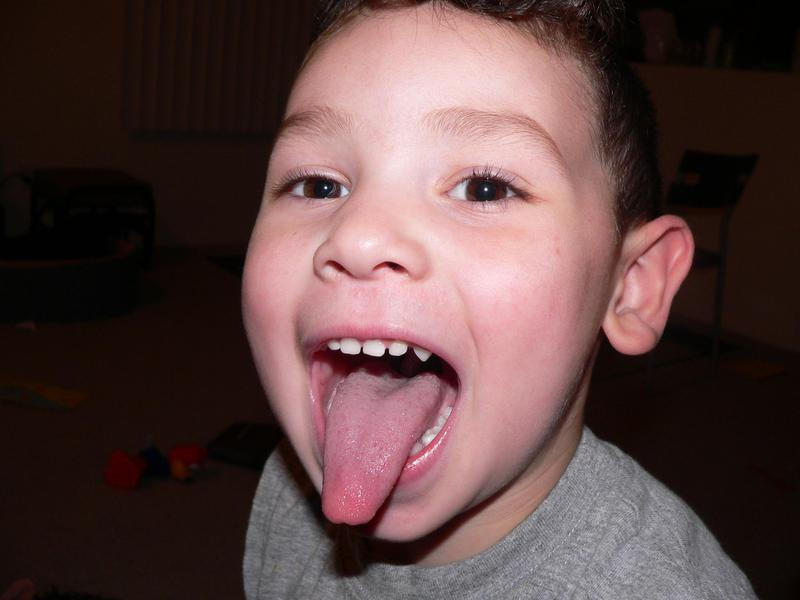person: (240, 1, 763, 600)
